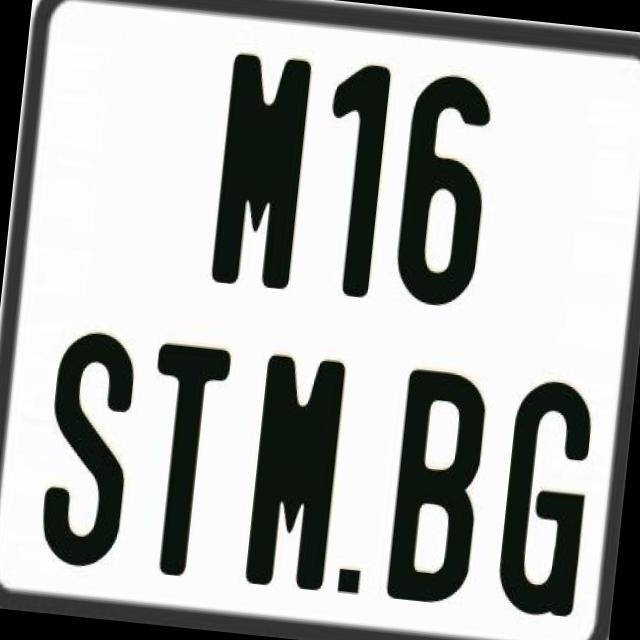1: (308, 56, 393, 300)
6: (387, 71, 494, 310)
B: (386, 368, 496, 611)
G: (492, 374, 596, 624)
M: (242, 353, 346, 595), (206, 51, 310, 292)
S: (36, 328, 147, 580)
T: (132, 341, 230, 578)
